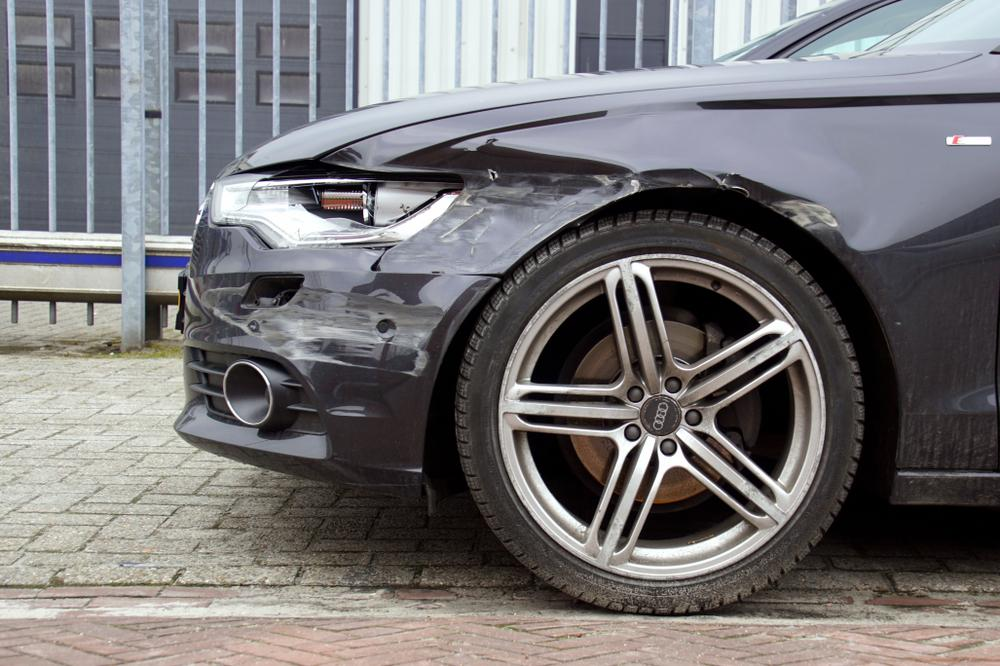dent: (375, 142, 641, 274), (775, 103, 1000, 251)
lamp broken: (209, 168, 463, 253)
scratch: (242, 287, 450, 381)
